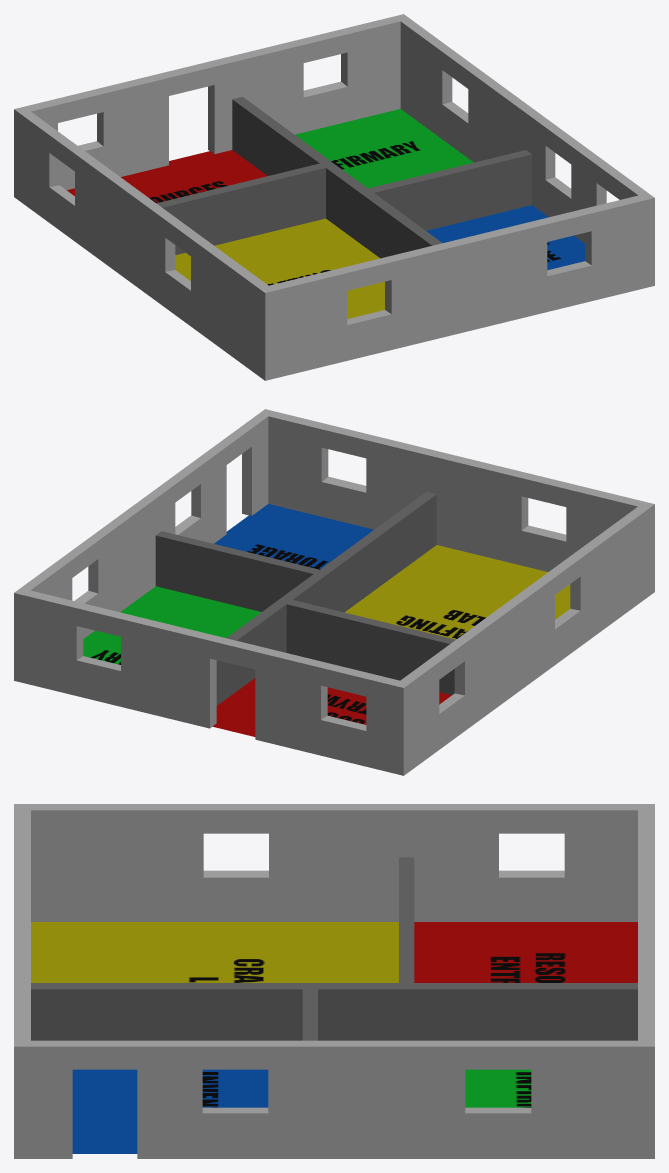
The model's file is Building1.fbx.
3 renders of one model, top to bottom at view 1: azimuth 30°, elevation 25°; view 2: azimuth 150°, elevation 25°; view 3: azimuth 270°, elevation 25°, orthographic. The views are drawn at different scales.
Visible parts, largest first — view 1: building1OutWalls, building1Floor, building1InWall2, building1InWall, building1InWall1; view 2: building1OutWalls, building1Floor, building1InWall2, building1InWall, building1InWall1; view 3: building1OutWalls, building1Floor, building1InWall2, building1InWall, building1InWall1.
Boxes of the visible parts, box(x1,y1,x2,y2) form: building1OutWalls: box(14, 14, 654, 380); building1Floor: box(67, 109, 584, 318); building1InWall2: box(232, 97, 442, 258); building1InWall: box(157, 162, 329, 254); building1InWall1: box(363, 150, 531, 230); building1OutWalls: box(14, 409, 654, 775); building1Floor: box(83, 504, 570, 736); building1InWall2: box(216, 492, 436, 705); building1InWall: box(283, 600, 455, 695); building1InWall1: box(155, 531, 319, 611); building1OutWalls: box(14, 804, 654, 1158); building1Floor: box(31, 922, 637, 1153); building1InWall2: box(31, 983, 637, 1040); building1InWall: box(399, 857, 414, 982); building1InWall1: box(302, 986, 317, 1040).
Bounding box in the file's own units: 17.54 × 3.78 × 19.57.
Materials: 3 (1 with a texture image).
